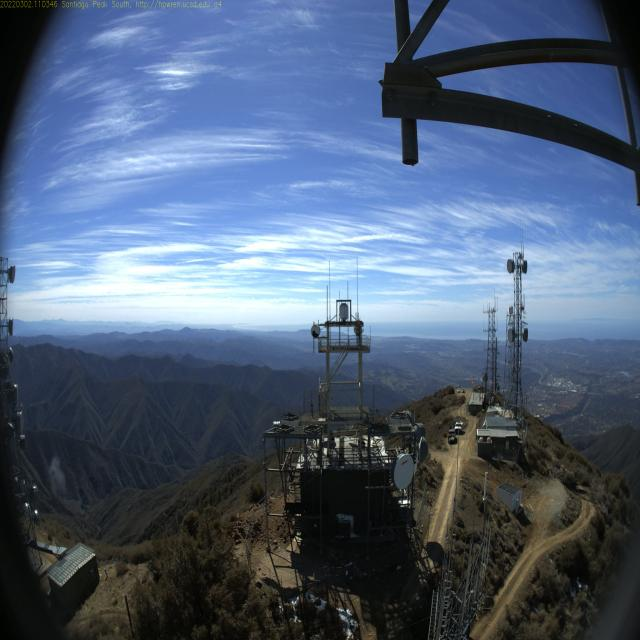smoke: (73, 484, 106, 538), (47, 454, 72, 500)
